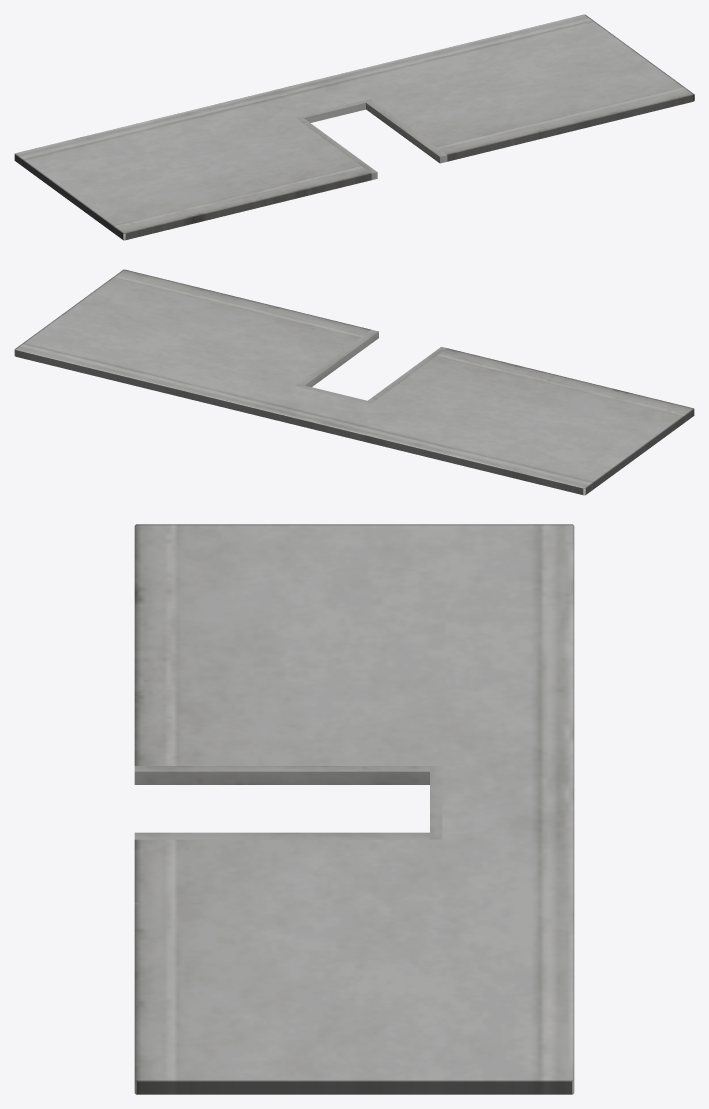
File: SM_EC_House_Wall_DoorWay_9x3_2.fbx
3 views of the same model, one above another, from view 1: azimuth 30°, elevation 25°; view 2: azimuth 150°, elevation 25°; view 3: azimuth 270°, elevation 25° (orthographic). The views are drawn at different scales.
Visible parts, largest first — view 1: SM_EC_House_Wall_DoorWay_9x3_2; view 2: SM_EC_House_Wall_DoorWay_9x3_2; view 3: SM_EC_House_Wall_DoorWay_9x3_2.
Part boxes in pixels (x1,y1,x2,y2): SM_EC_House_Wall_DoorWay_9x3_2: (14,14,694,240); SM_EC_House_Wall_DoorWay_9x3_2: (14,269,694,495); SM_EC_House_Wall_DoorWay_9x3_2: (134,524,574,1094).
Bounding box in the file's own units: 9 × 3 × 0.1.
